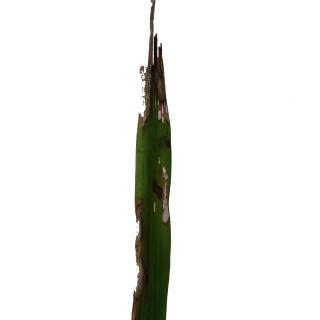Hawar-Daun: (141, 0, 171, 132), (133, 208, 148, 320), (147, 169, 170, 224)
